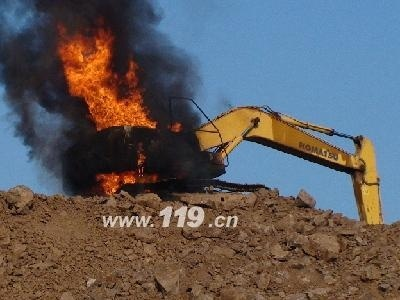fire: (56, 21, 162, 129), (94, 147, 158, 195)
